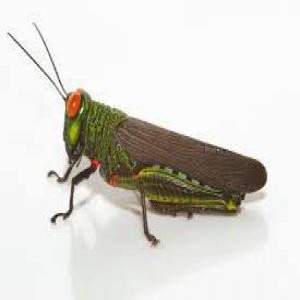locust: (41, 57, 269, 239)
